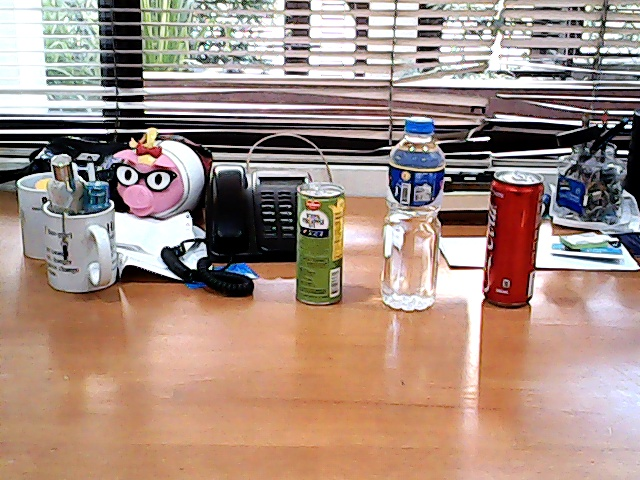Cola: (473, 155, 553, 318)
Pine Juice: (282, 173, 356, 321)
Summit Water: (370, 104, 456, 327)
